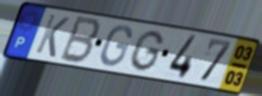4: (166, 34, 198, 81)
7: (198, 37, 234, 85)
B: (57, 14, 104, 66)
G: (127, 29, 166, 73), (98, 24, 134, 68)
K: (33, 12, 72, 59)
